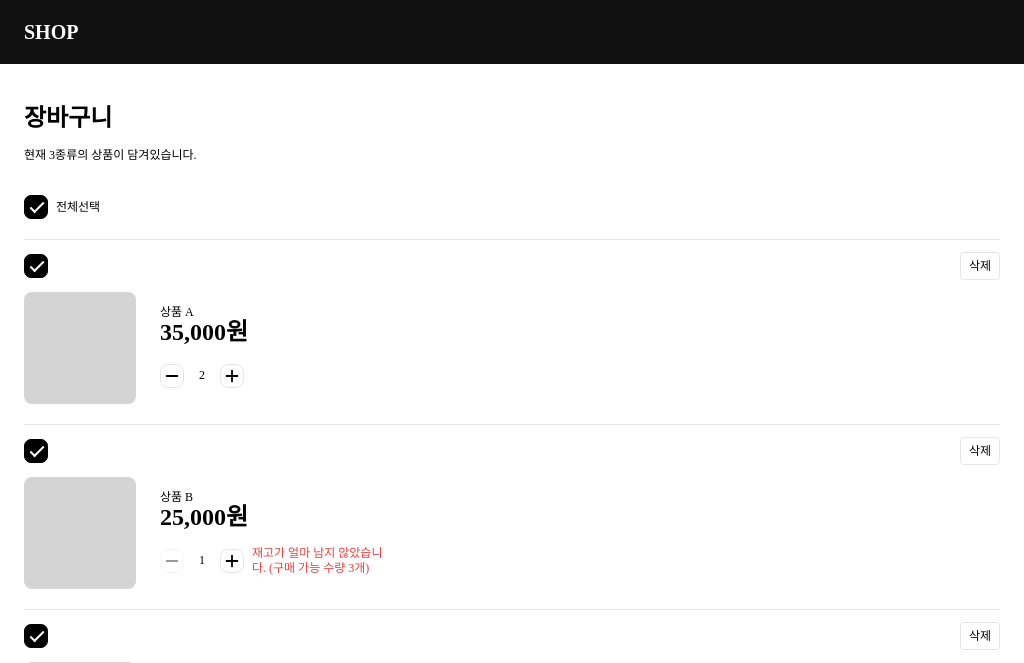
Test: 상품 삭제 › 삭제 요청 중 다른 아이템 수량 변경이 일어나도 삭제 롤백 시 해당 아이템만 복원된다
Expected: the text "상품 A" is shown, [160, 304, 194, 318]
상품 A 삭제 요청 (pending 상태로 유지)
Click the 1st button "삭제". click: (980, 266)
box: [960, 252, 1000, 280]
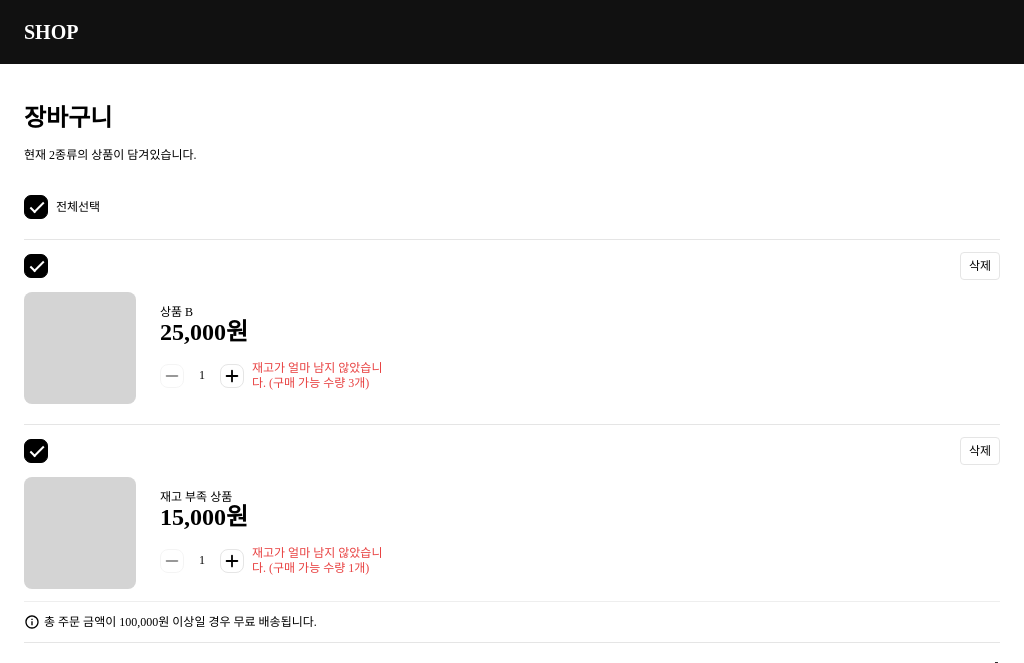
Expected: the text "상품 A" is gone
Click the 2nd checkbox. click: (36, 266)
box: [24, 254, 48, 278]
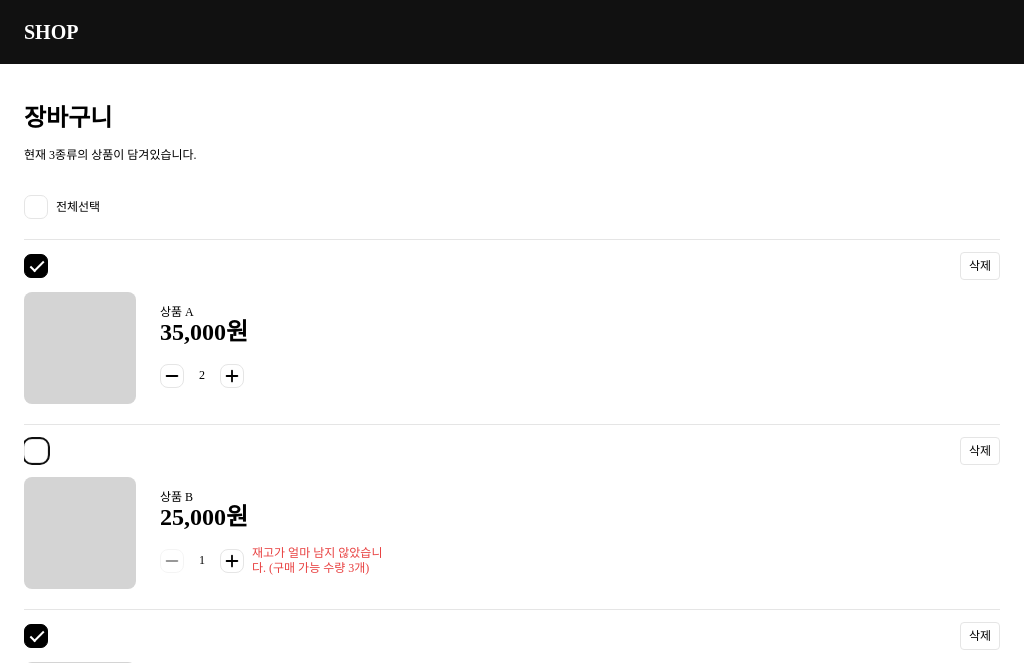
Expected: the 3rd checkbox is not checked, [24, 439, 48, 463]
Expected: the text "상품 A" is shown, [160, 304, 194, 318]
